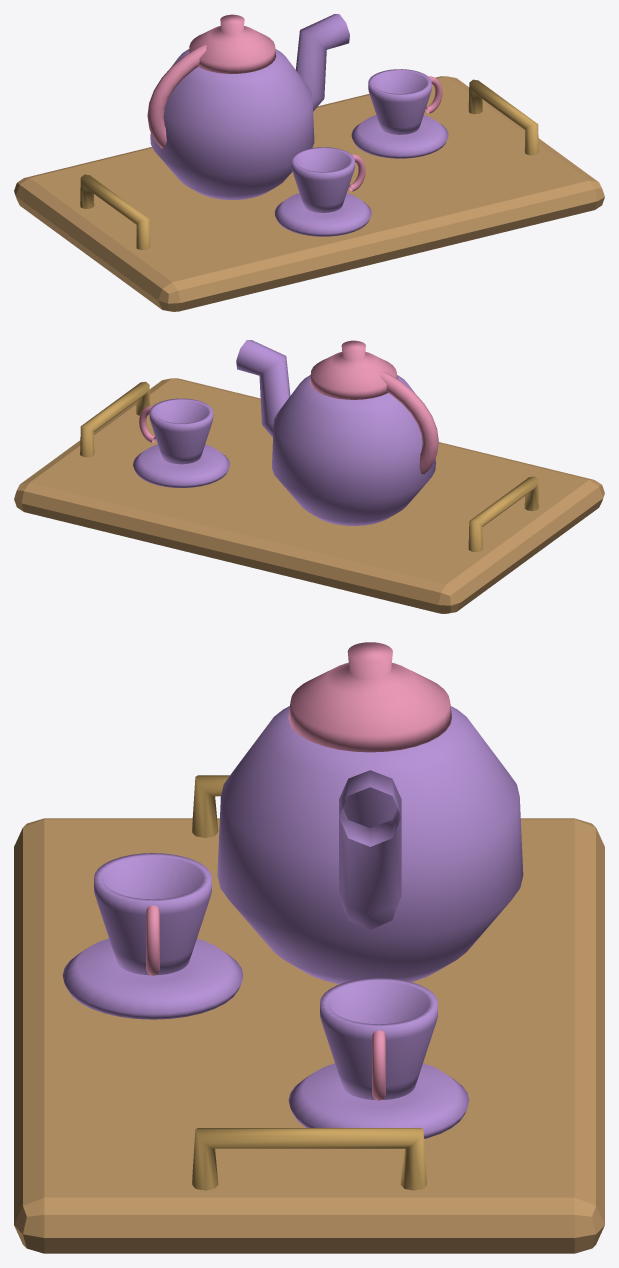
File: cottage-tea-set.glb
3 views of the same model, one above another, from view 1: azimuth 30°, elevation 25°; view 2: azimuth 150°, elevation 25°; view 3: azimuth 270°, elevation 25° (orthographic). The views are drawn at different scales.
Visible parts, largest first — view 1: oval edged tray, teapot, teapot lid, cup.001, cup, saucer.001, saucer, spout, pot handle, tray handle, tray handle.001; view 2: oval edged tray, teapot, teapot lid, cup, saucer, spout, pot handle, tray handle, tray handle.001; view 3: oval edged tray, teapot, teapot lid, cup.001, cup, saucer.001, spout, saucer, tray handle.001, tray handle, cup handle.001, cup handle.
Boxes of the visible parts, x1,y1,x2,y2 form: oval edged tray: [14, 76, 604, 311]; teapot: [150, 49, 314, 199]; teapot lid: [188, 14, 276, 73]; cup.001: [291, 147, 354, 212]; cup: [368, 69, 431, 134]; saucer.001: [274, 193, 371, 236]; saucer: [351, 115, 448, 158]; spout: [295, 14, 349, 111]; pot handle: [147, 44, 206, 148]; tray handle: [80, 174, 150, 249]; tray handle.001: [468, 79, 538, 155]; oval edged tray: [14, 378, 604, 613]; teapot: [271, 375, 435, 525]; teapot lid: [310, 340, 397, 399]; cup: [149, 398, 213, 464]; saucer: [133, 444, 229, 487]; spout: [236, 340, 290, 436]; pot handle: [379, 371, 438, 474]; tray handle: [468, 476, 538, 551]; tray handle.001: [80, 381, 150, 457]; oval edged tray: [14, 818, 604, 1253]; teapot: [217, 706, 523, 984]; teapot lid: [288, 642, 451, 752]; cup.001: [94, 853, 211, 975]; cup: [320, 978, 437, 1099]; saucer.001: [62, 938, 243, 1019]; spout: [339, 770, 401, 930]; saucer: [288, 1063, 469, 1138]; tray handle.001: [192, 1128, 426, 1190]; tray handle: [192, 775, 229, 837]; cup handle.001: [146, 905, 159, 975]; cup handle: [372, 1030, 385, 1100].
Bounding box in the file's own units: 0.55 × 0.2265 × 0.34.
